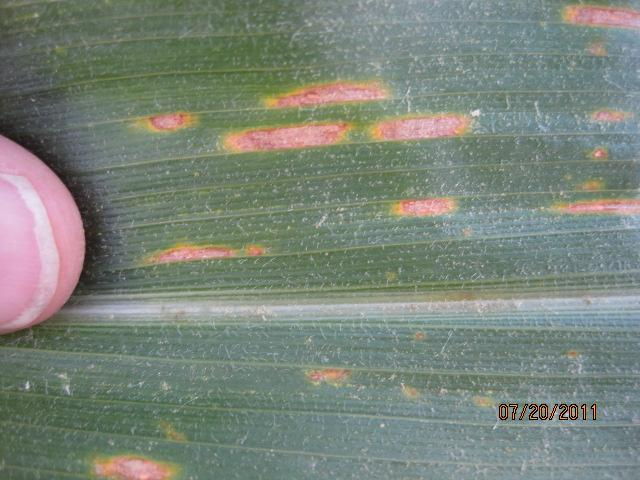Gray_Leaf_Spot: (213, 117, 361, 154), (255, 76, 395, 112), (142, 238, 271, 271), (361, 112, 473, 143), (79, 448, 179, 480), (401, 291, 517, 314), (389, 193, 459, 224), (555, 2, 640, 27), (126, 107, 202, 131), (295, 359, 356, 387), (546, 198, 640, 216), (586, 101, 633, 124), (583, 141, 611, 166), (154, 420, 187, 441), (584, 36, 608, 61), (471, 389, 497, 411), (396, 380, 418, 401), (576, 181, 611, 193), (410, 330, 431, 345), (562, 348, 580, 362)
